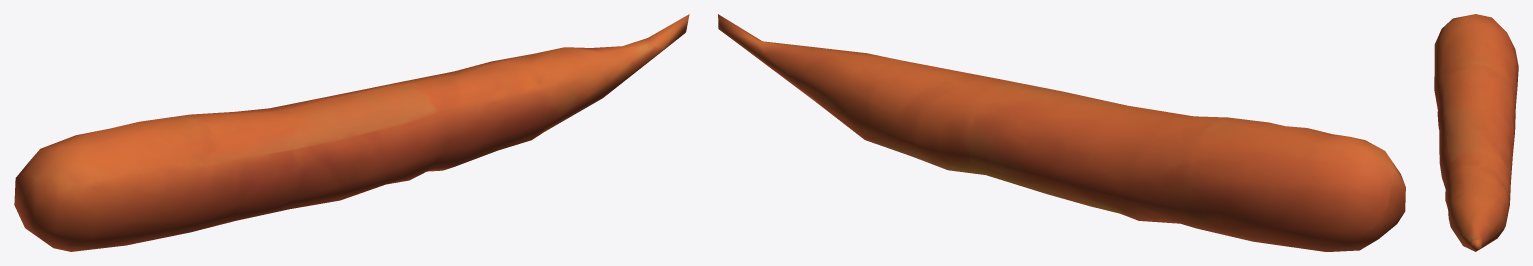
File: SM_Food_SM_Carrot_01.fbx
3 renders of one model, left to right at view 1: azimuth 30°, elevation 25°; view 2: azimuth 150°, elevation 25°; view 3: azimuth 270°, elevation 25°, orthographic. The views are drawn at different scales.
Visible parts, largest first — view 1: SM_Food_SM_Carrot_01_LOD0; view 2: SM_Food_SM_Carrot_01_LOD0; view 3: SM_Food_SM_Carrot_01_LOD0.
Boxes of the visible parts, box(x1,y1,x2,y2) form: SM_Food_SM_Carrot_01_LOD0: box(14, 14, 689, 251); SM_Food_SM_Carrot_01_LOD0: box(718, 14, 1405, 251); SM_Food_SM_Carrot_01_LOD0: box(1434, 14, 1518, 251).
Size of the model in its own units: 21 by 3.33 by 3.49.
Materials: 1 (1 with a texture image).
